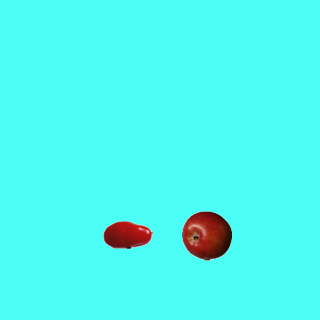Apple Braeburn: (181, 210, 231, 260)
Tomato 2: (102, 209, 152, 259)
